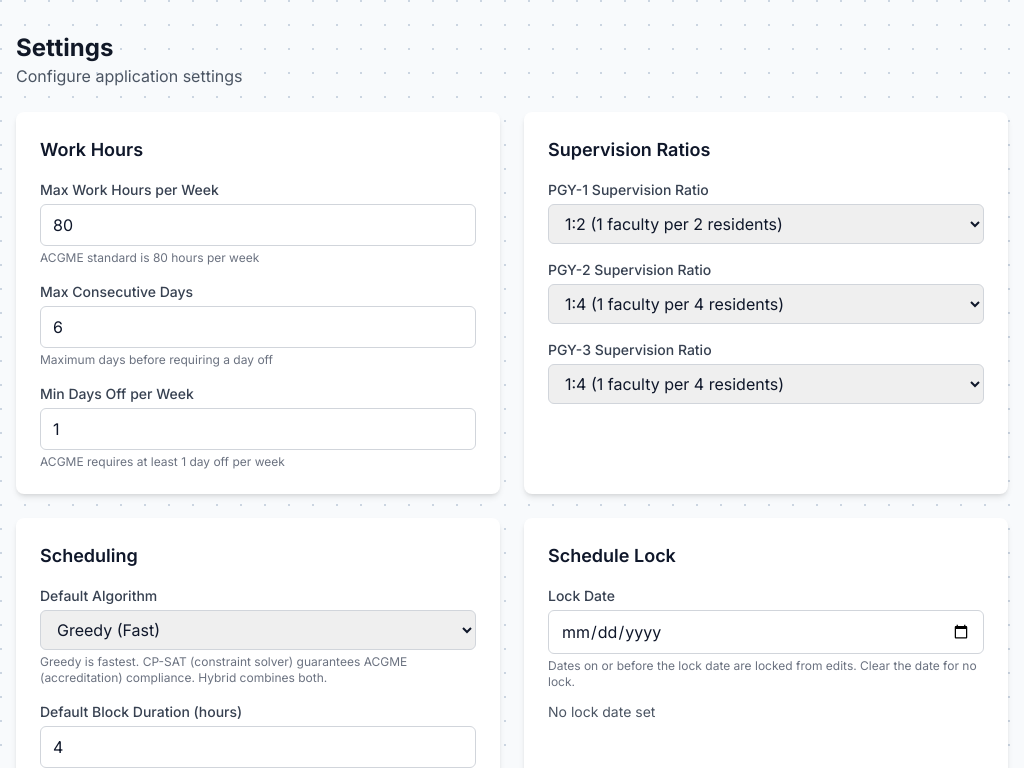
Test: SettingsPage › Success State › should display success message after successful save
Expected: the text "Max Work Hours per Week" is shown, [40,181,219,198]
Replace the text in the number field below "Max Work Hours per Week" with "75". click: point(258, 225)
box: [40,204,476,246]
(page scrolled)
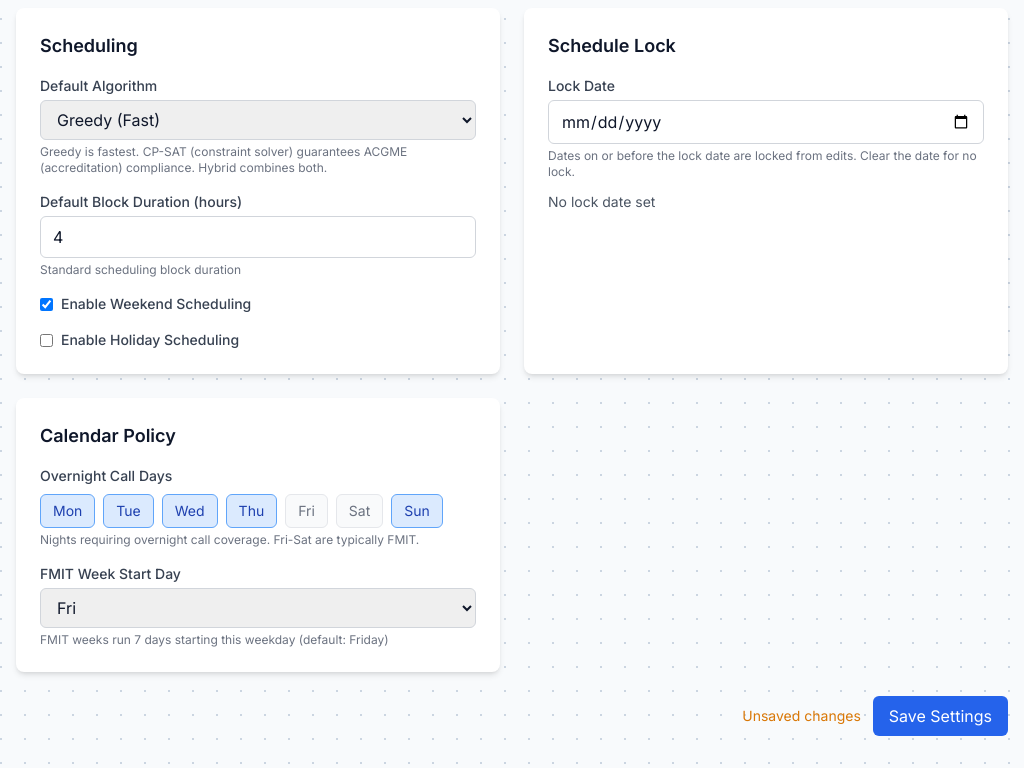
Click the button "Save Settings". click: point(940, 716)
box: [873,696,1008,736]
(page scrolled)
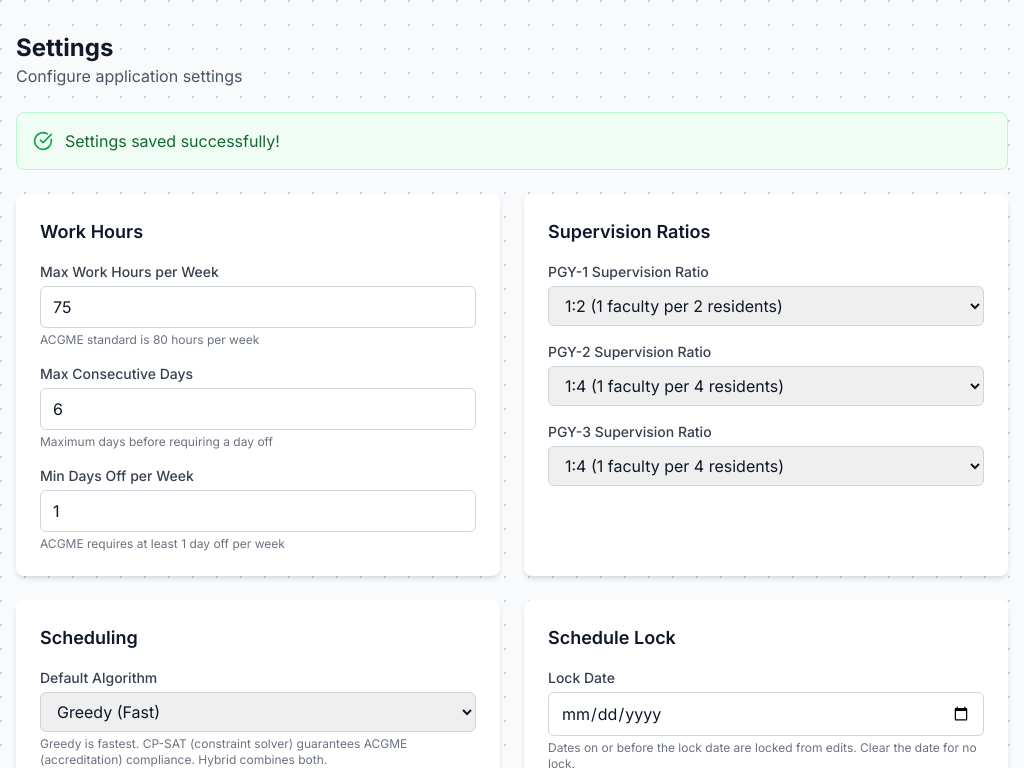
Expected: the text "Settings saved successfully!" is shown, [65,129,280,153]
